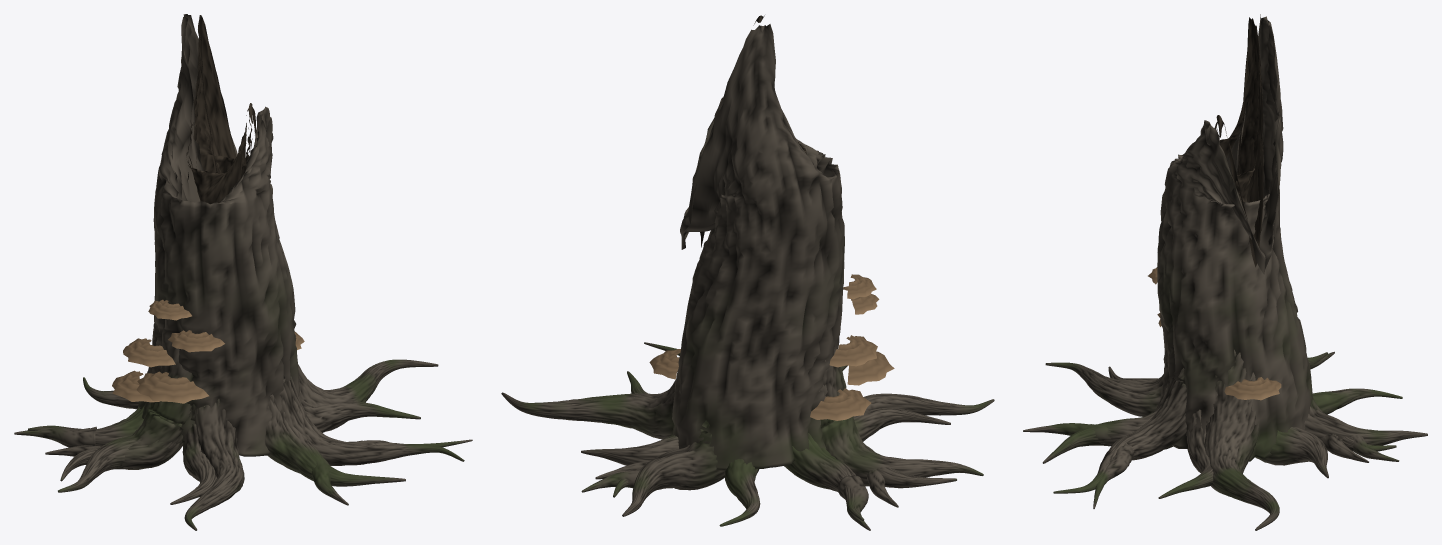
The model's file is twisted-stump.glb.
3 views of the same model, side by side, from view 1: azimuth 30°, elevation 25°; view 2: azimuth 150°, elevation 25°; view 3: azimuth 270°, elevation 25° (orthographic). The views are drawn at different scales.
Parts seen in each view (by area): view 1: Twisted stump | hollow split trunk, roots, shelf mushrooms, Twisted stump | hollow interior; view 2: Twisted stump | hollow split trunk, roots, shelf mushrooms; view 3: Twisted stump | hollow split trunk, roots, shelf mushrooms, Twisted stump | hollow interior.
Part boxes in pixels (x1,y1,x2,y2): Twisted stump | hollow split trunk, roots, shelf mushrooms: [14, 14, 472, 530]; Twisted stump | hollow interior: [186, 15, 255, 204]; Twisted stump | hollow split trunk, roots, shelf mushrooms: [501, 24, 994, 530]; Twisted stump | hollow split trunk, roots, shelf mushrooms: [1023, 14, 1427, 530]; Twisted stump | hollow interior: [1214, 17, 1263, 267].
Size of the model in its own units: 4.48 by 4.46 by 3.9.
